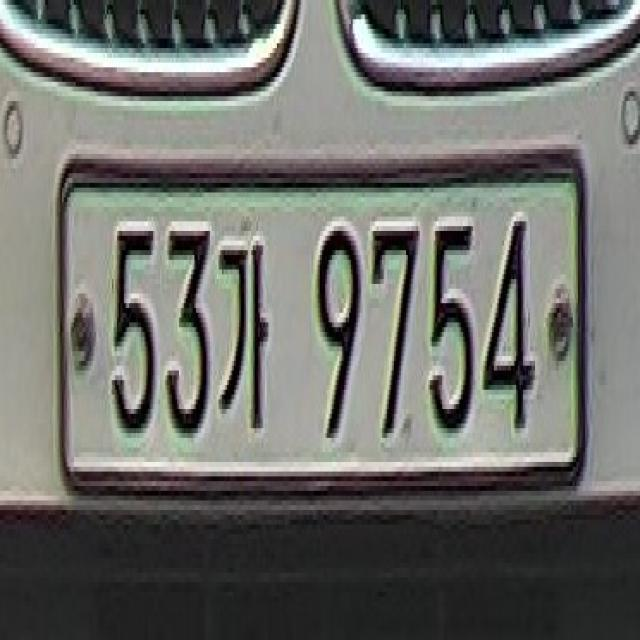3: (162, 216, 212, 439)
4: (479, 199, 536, 448)
5: (424, 208, 478, 431), (108, 218, 158, 451)
7: (367, 217, 420, 438)
9: (310, 222, 364, 451)
ga: (217, 242, 274, 438)
license_plate: (53, 142, 596, 491)
